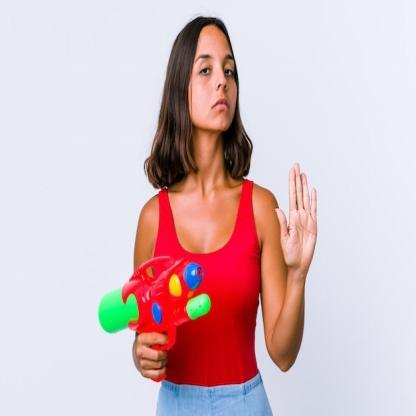stop: (274, 160, 320, 272)
